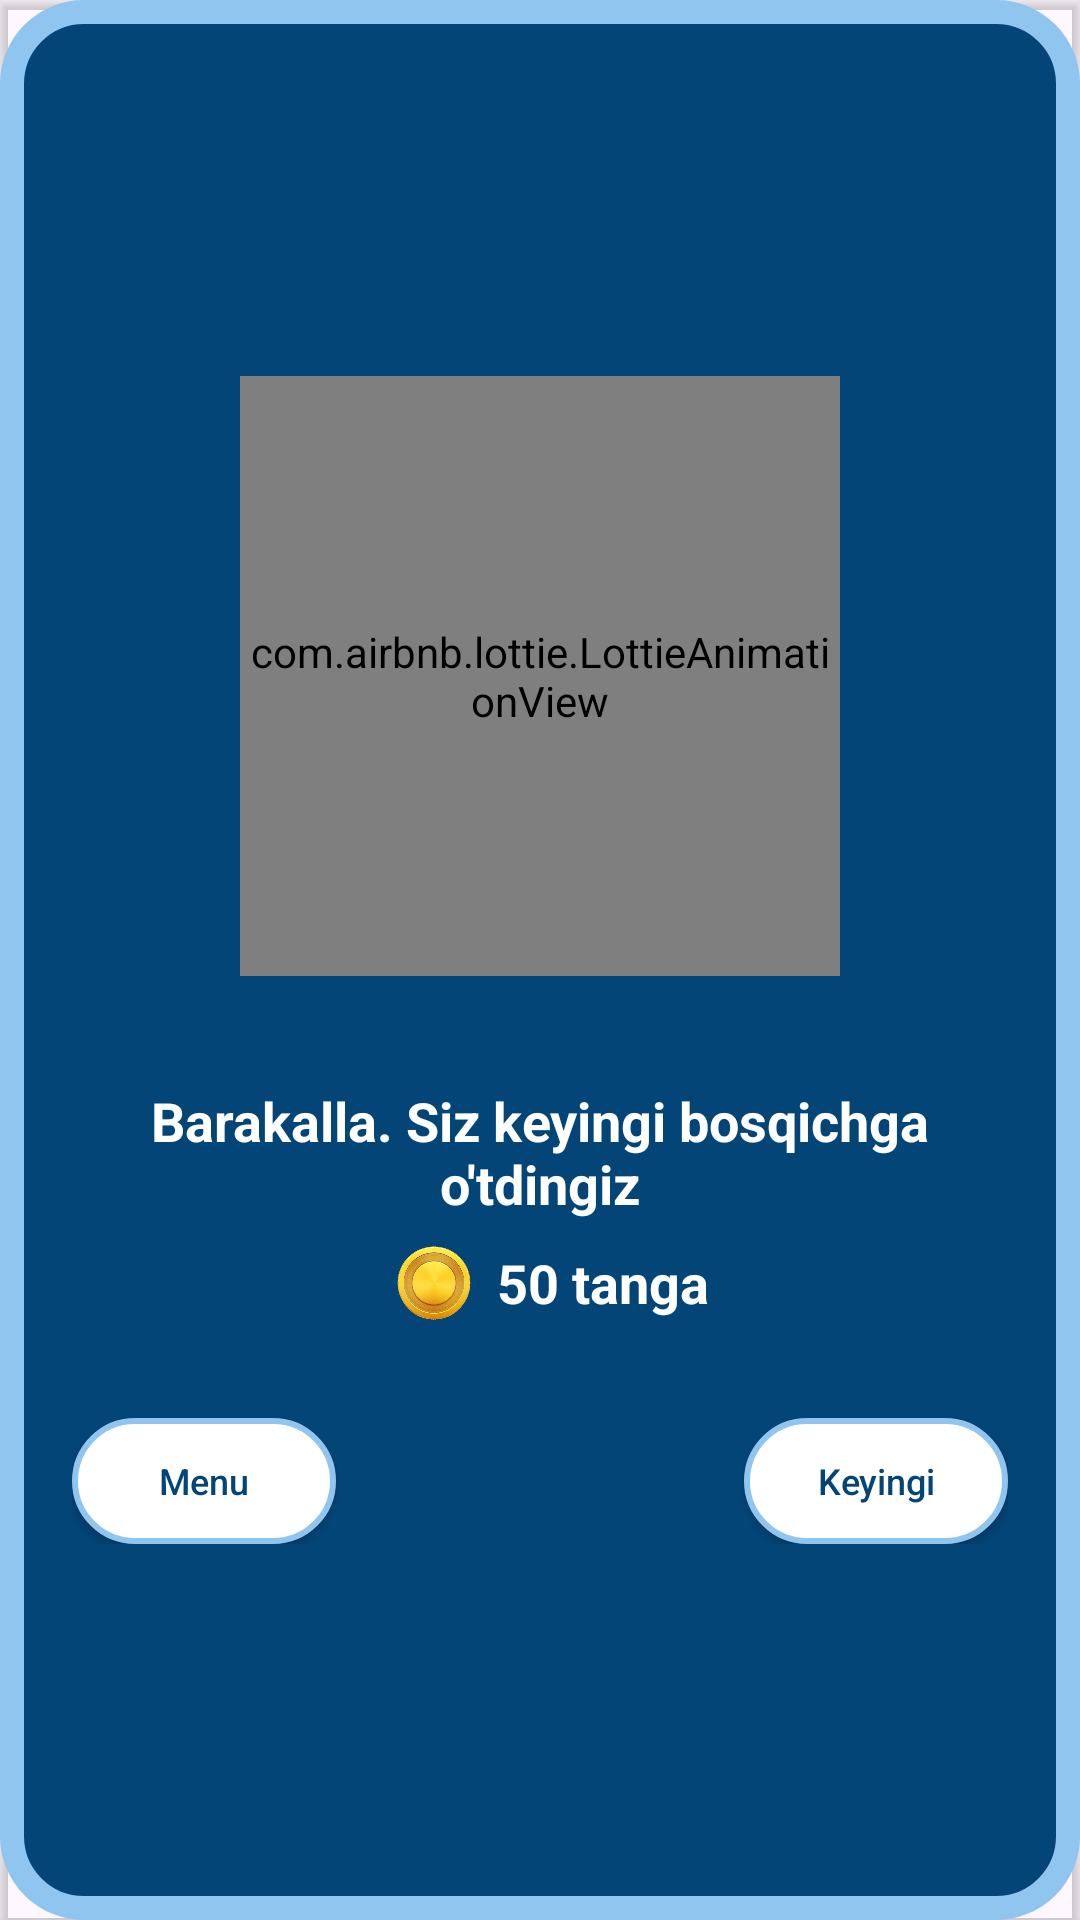

Where to tap for icons on this 1080×1920 app screen, as (x=x, y=y):
coin: (x=434, y=1283)
